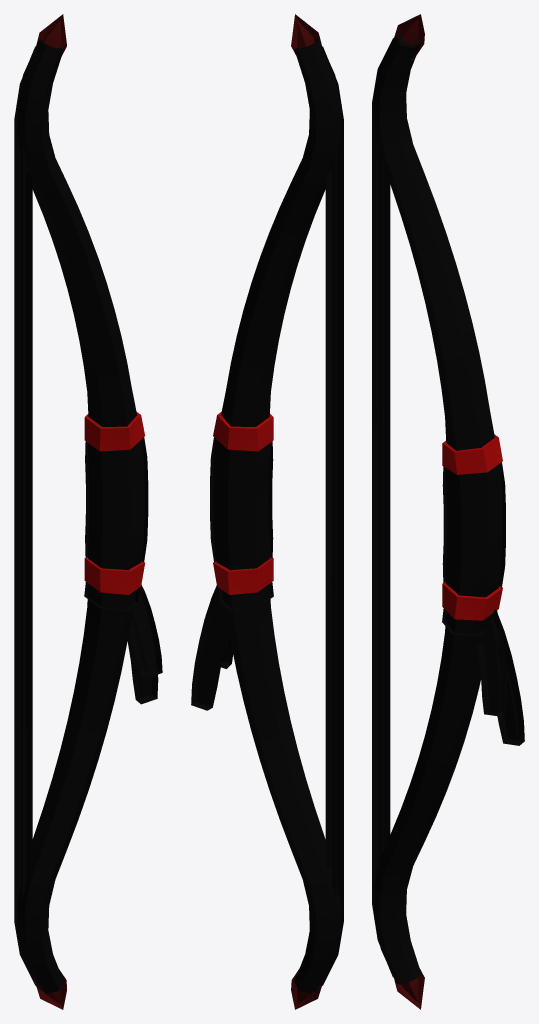
Rendered from SM_Bow.fbx.
3 renders of one model, left to right at view 1: azimuth 30°, elevation 25°; view 2: azimuth 150°, elevation 25°; view 3: azimuth 330°, elevation 25°, orthographic.
Parts seen in each view (by area): view 1: SM_Bow; view 2: SM_Bow; view 3: SM_Bow.
Boxes of the visible parts, left/top/right/bottom form: SM_Bow: left=14, top=14, right=162, bottom=1009; SM_Bow: left=191, top=14, right=343, bottom=1009; SM_Bow: left=372, top=14, right=524, bottom=1009.
Size of the model in its own units: 0.2103 by 1.41 by 0.0822.
